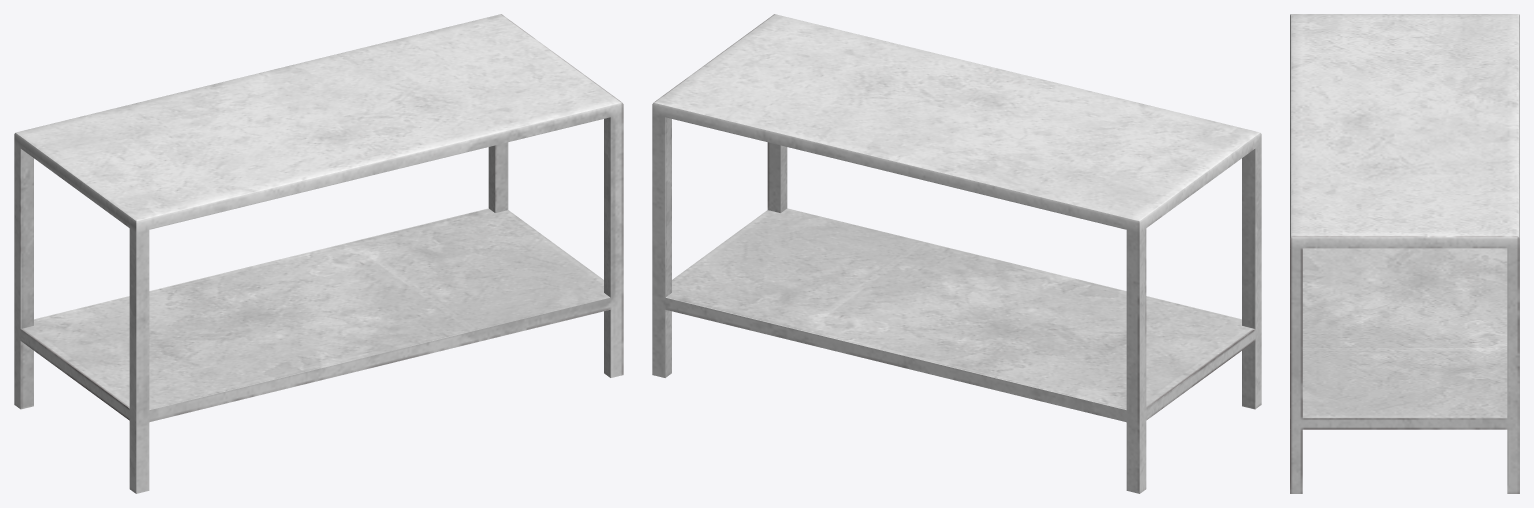
File: Bancada de inox1.fbx
3 views of the same model, side by side, from view 1: azimuth 30°, elevation 25°; view 2: azimuth 150°, elevation 25°; view 3: azimuth 270°, elevation 25° (orthographic). The views are drawn at different scales.
Visible parts, largest first — view 1: Cube; view 2: Cube; view 3: Cube.
Part boxes in pixels (box(x1,y1,x2,y2)): Cube: box(14, 14, 623, 493); Cube: box(652, 14, 1261, 493); Cube: box(1290, 14, 1519, 493).
Bounding box in the file's own units: 170 × 90.73 × 73.51.
